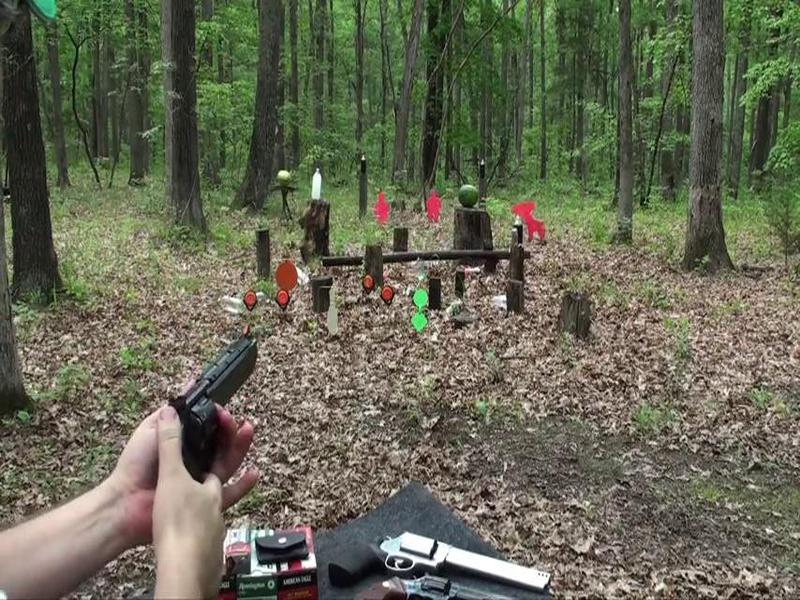Revolver: (156, 326, 263, 519)
